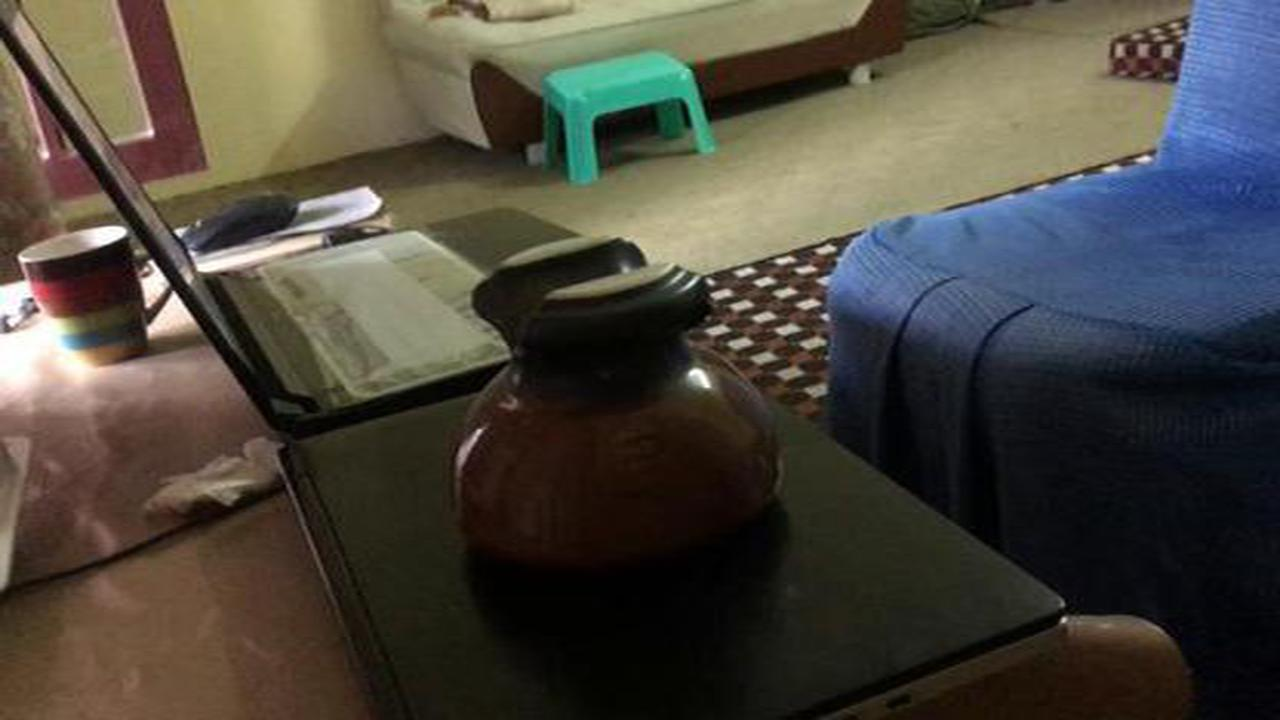insulator_pin: (428, 232, 810, 605)
